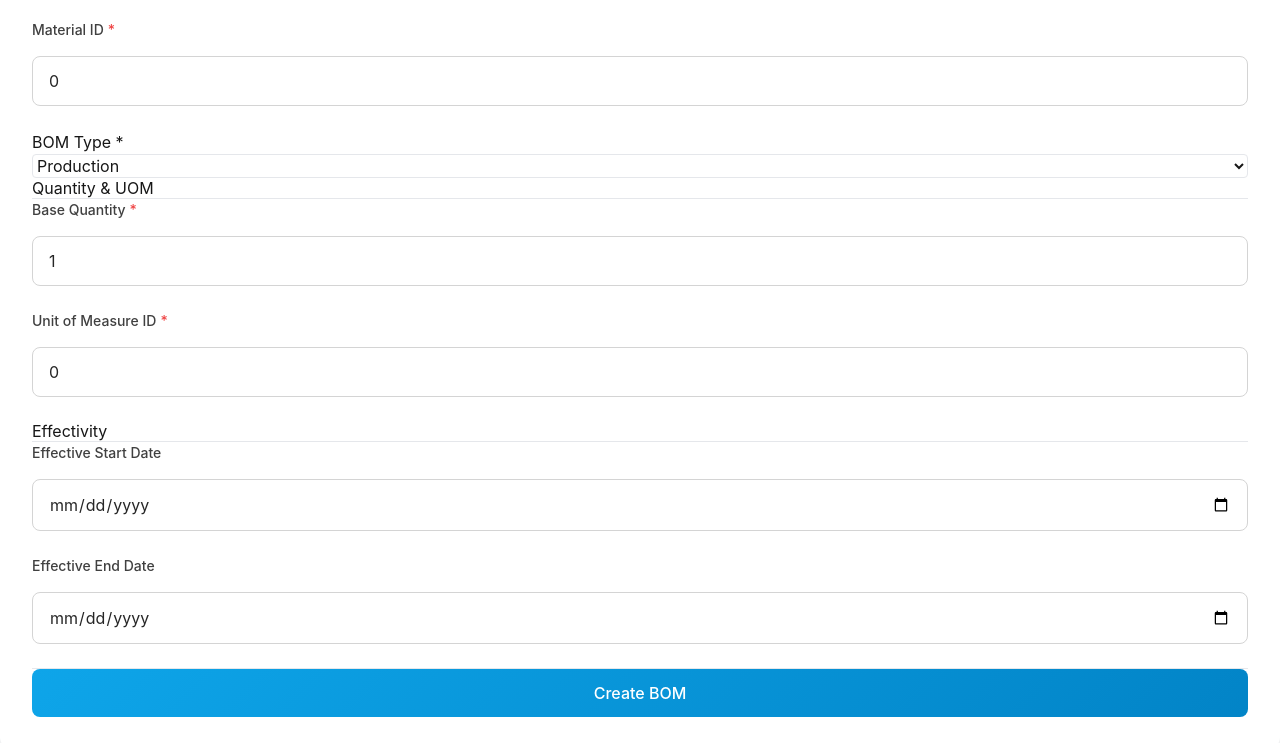
Scenario: BOMForm - Create Mode › should validate required fields
(page scrolled)
Click the button "Create BOM" at (640, 693), box [32,669,1248,717]
(page scrolled)
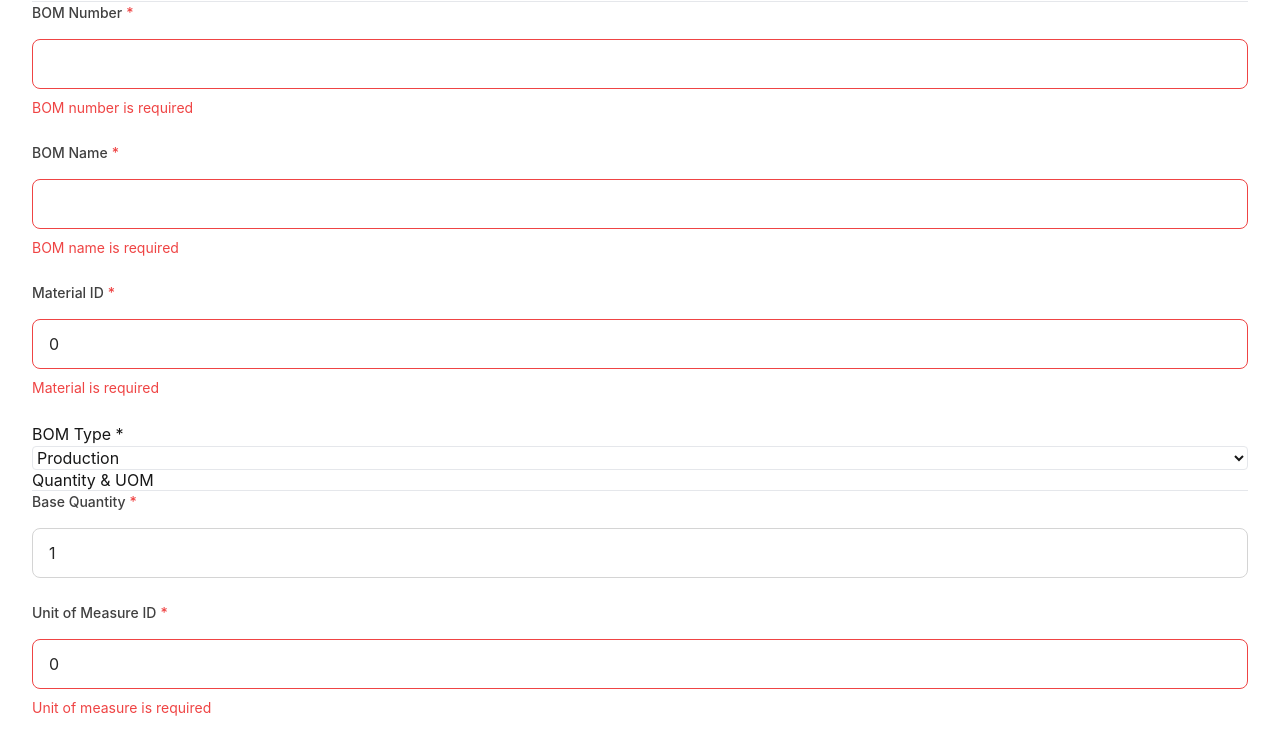
Expected: the text "BOM number is required" is shown, [32,99,193,116]
